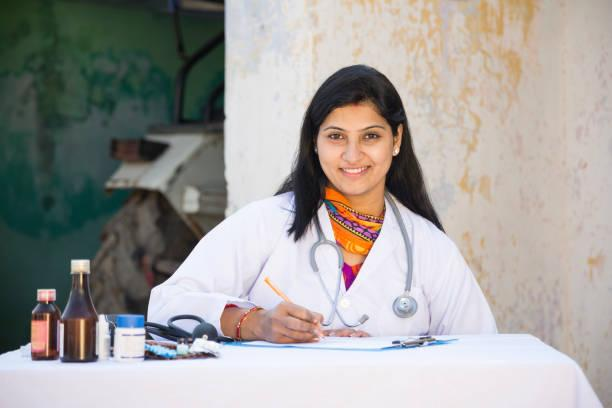Human: (137, 58, 525, 359)
